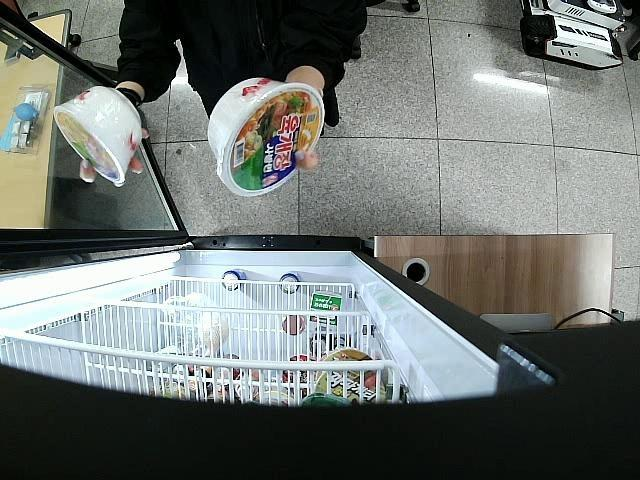09_yukGaeJang: (206, 76, 325, 197), (53, 86, 142, 187)
